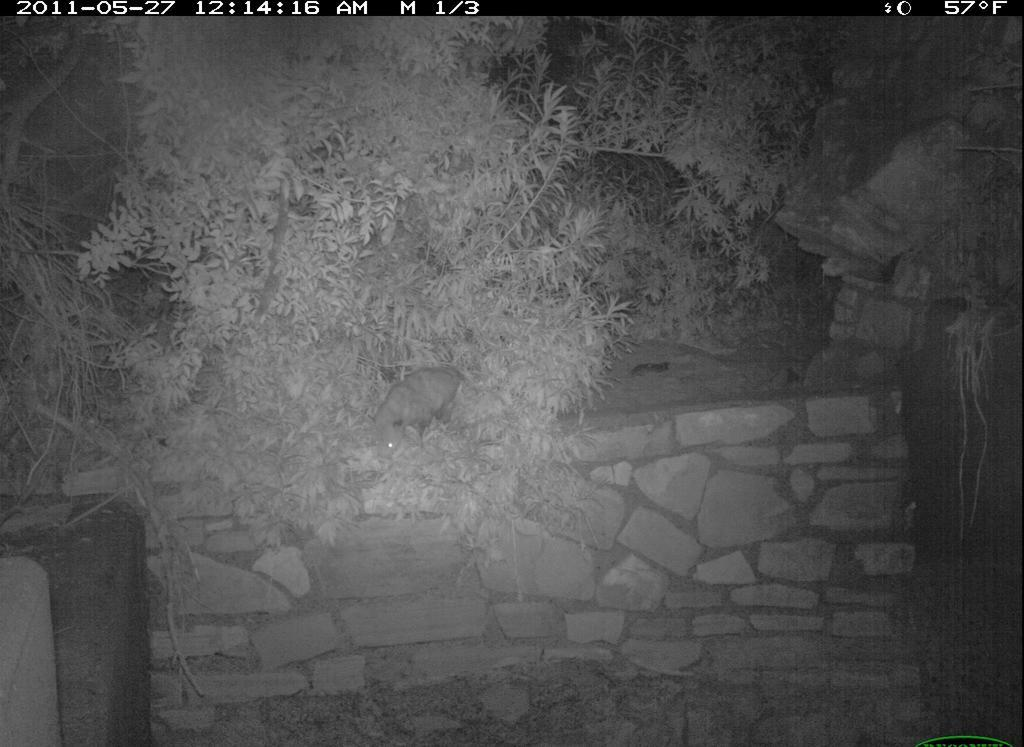opossum: (361, 359, 509, 475)
